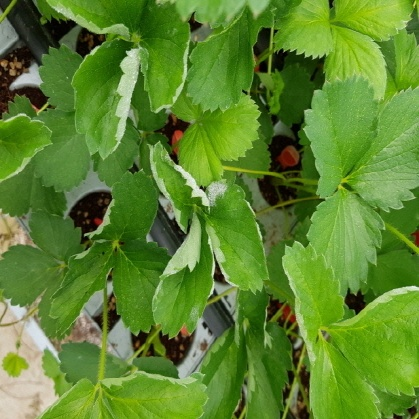Powdery_Leaf: (0, 285, 324, 397), (74, 238, 319, 372), (138, 35, 349, 161), (51, 113, 418, 184), (135, 0, 286, 114), (194, 209, 269, 340), (126, 0, 374, 38), (184, 140, 273, 236), (148, 177, 214, 295)
